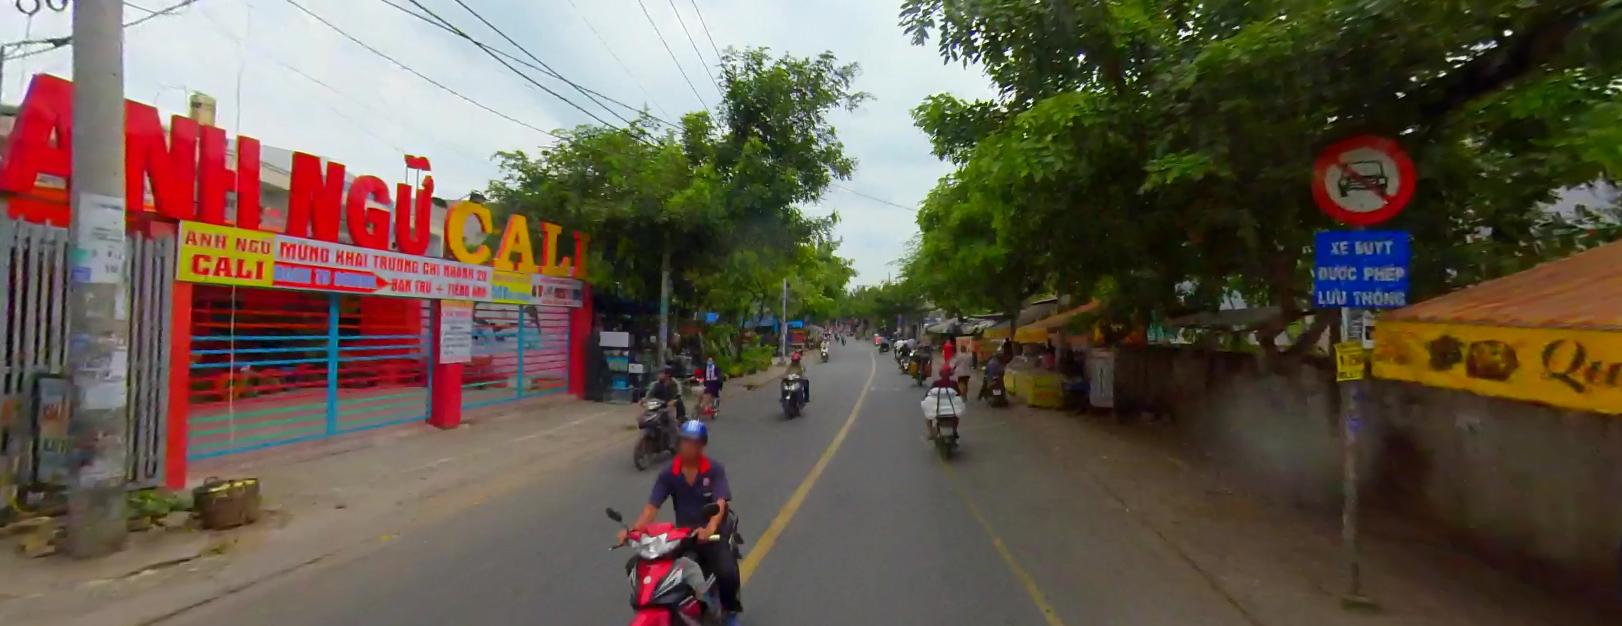Cam con lai: (1310, 129, 1413, 229)
